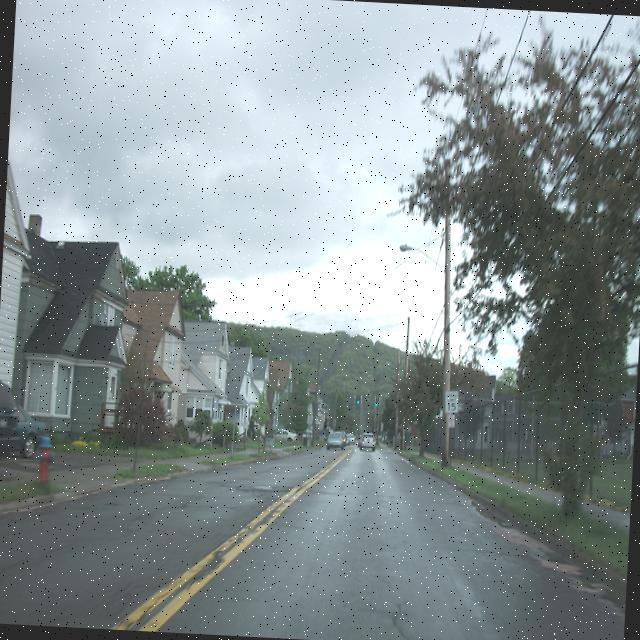fire_hydrant: (36, 431, 56, 482)
